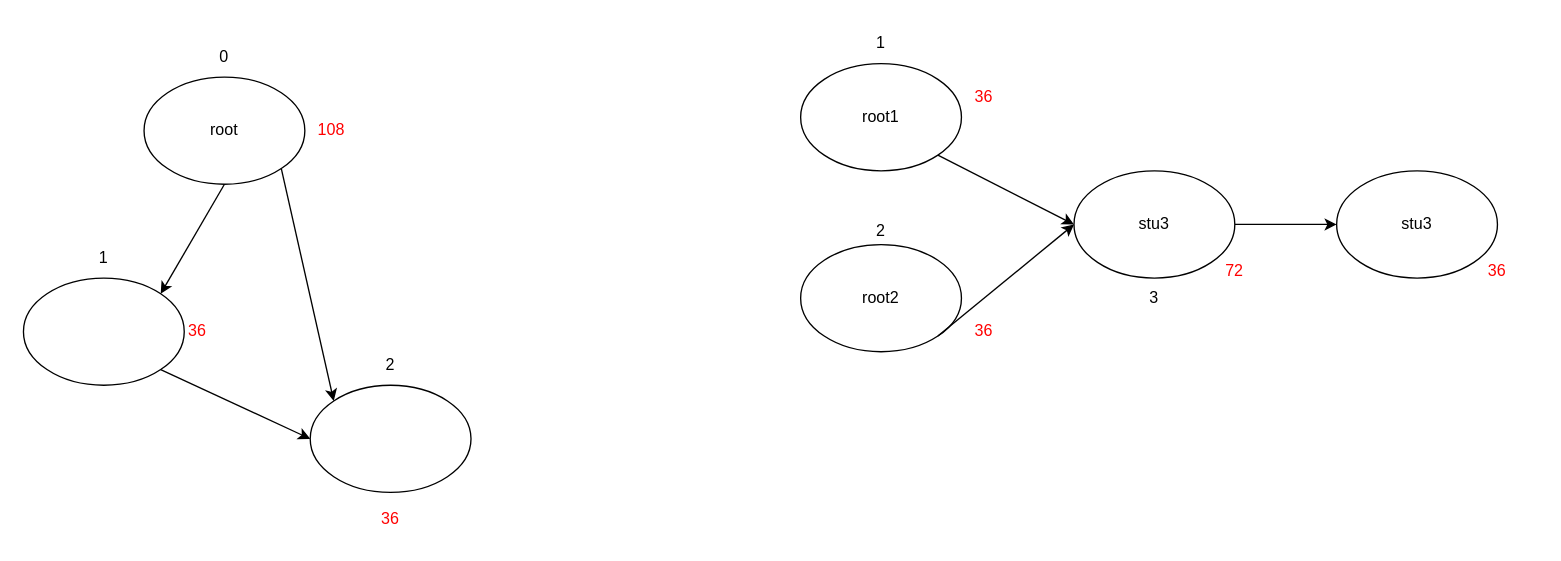
The diagram is 1561 pixels wide and 561 high, and some of its shapes have lost their labels. The shapes that lost their labels are listed below. From the top down, each one's centre as x and y in pixels, then its label:
At point 103,331: "stu1".
At point 390,438: "stu2".
